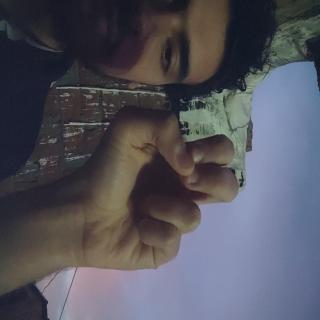QAAF: (72, 103, 211, 320)
